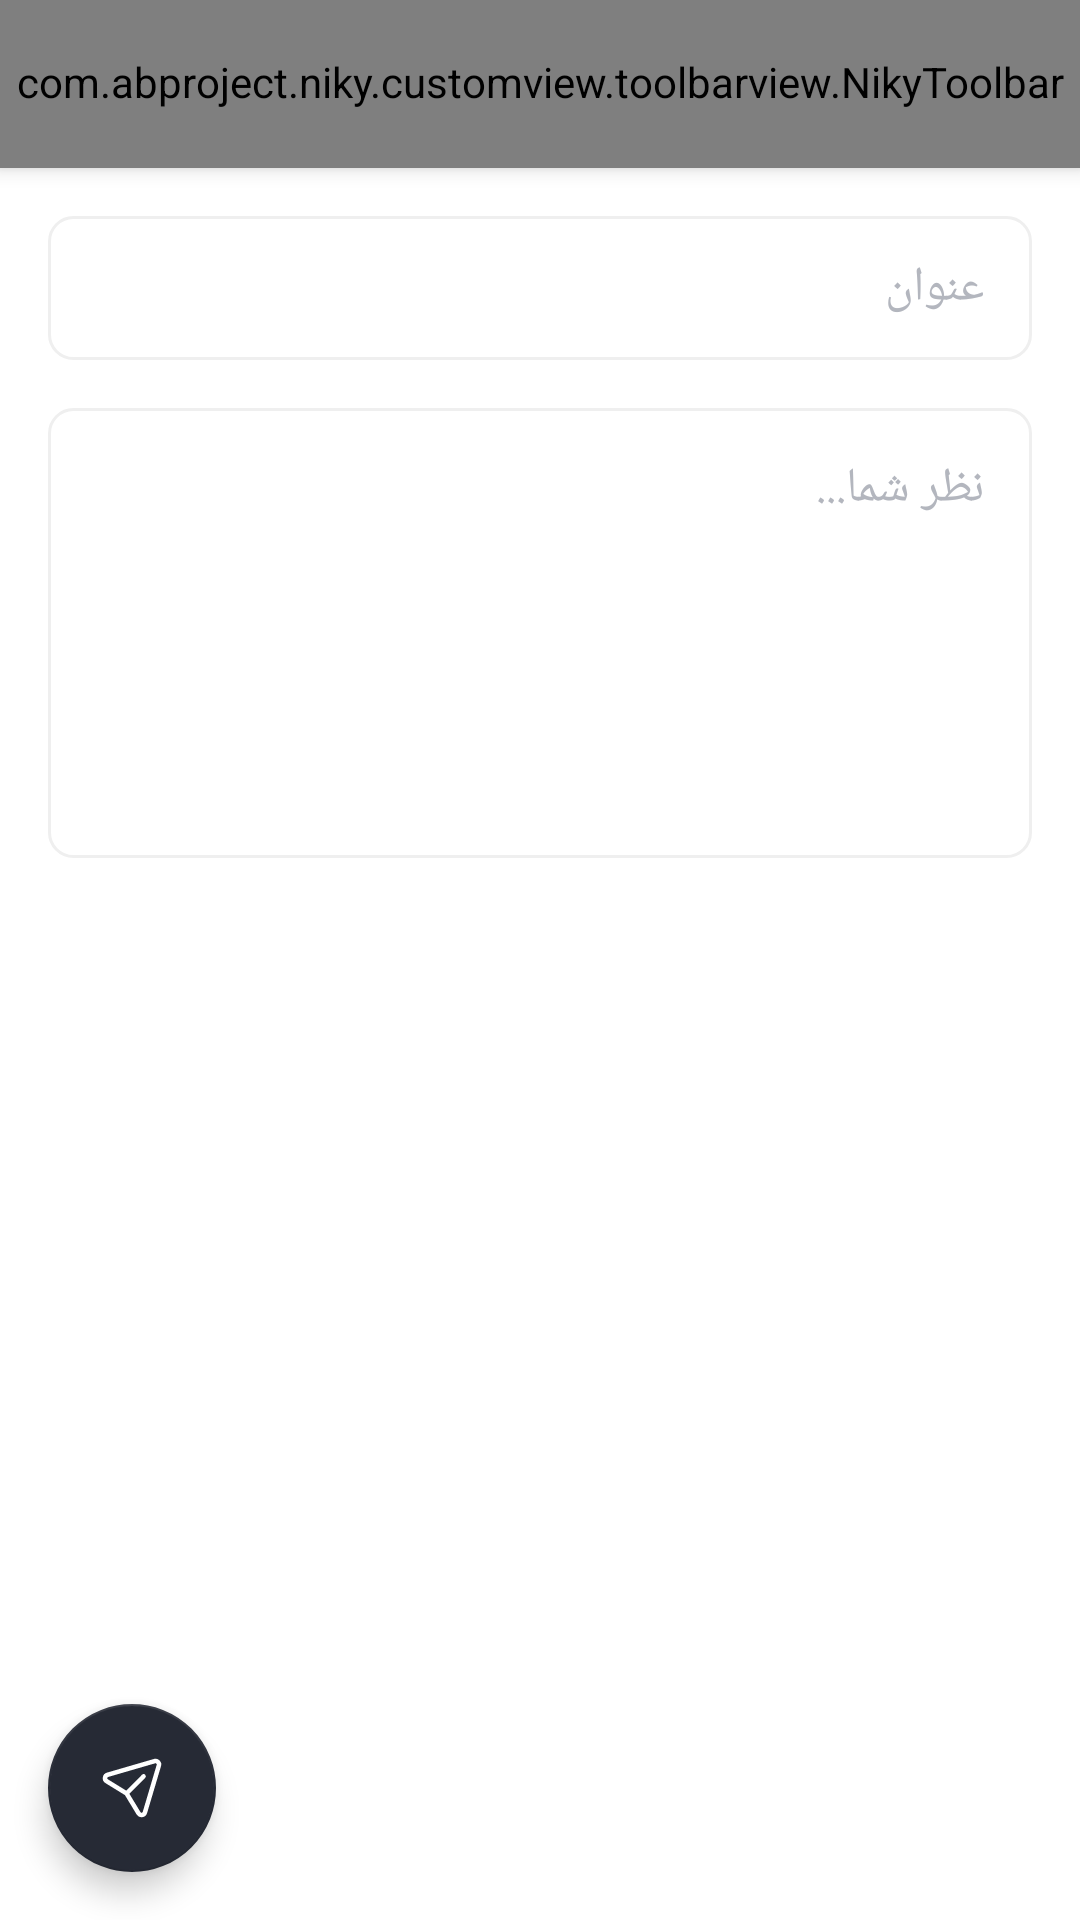

Named icons in this screenshot (1080px×1920px) and their bounding boxes, bbox=[x1, y1, x2, y2]:
send: bbox=[48, 1704, 216, 1872]
